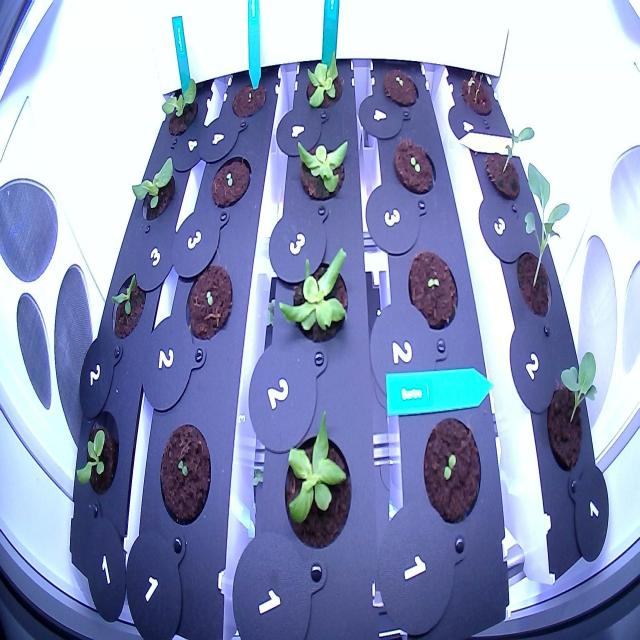germination: (417, 408, 484, 530), (154, 414, 214, 532), (405, 236, 462, 339), (180, 251, 236, 350), (388, 133, 441, 202), (207, 146, 254, 211), (458, 63, 498, 123), (379, 63, 422, 115)
pod: (227, 72, 272, 128)
young: (273, 405, 361, 559), (274, 233, 358, 350), (68, 394, 122, 504), (286, 128, 356, 208), (105, 263, 151, 352), (127, 150, 180, 226), (297, 44, 352, 117), (154, 66, 203, 144)
